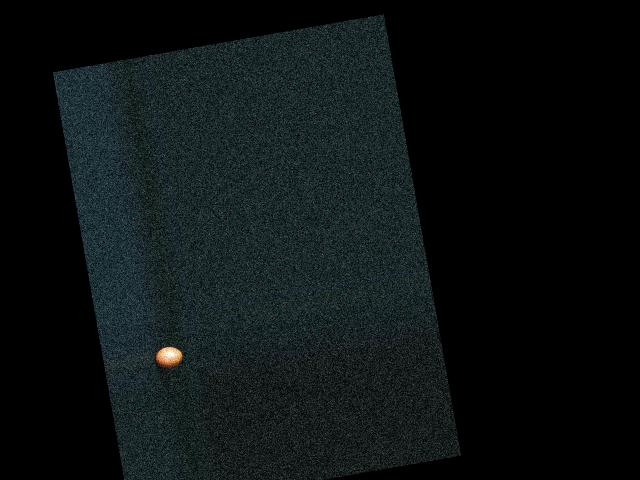egg: (153, 345, 184, 370)
